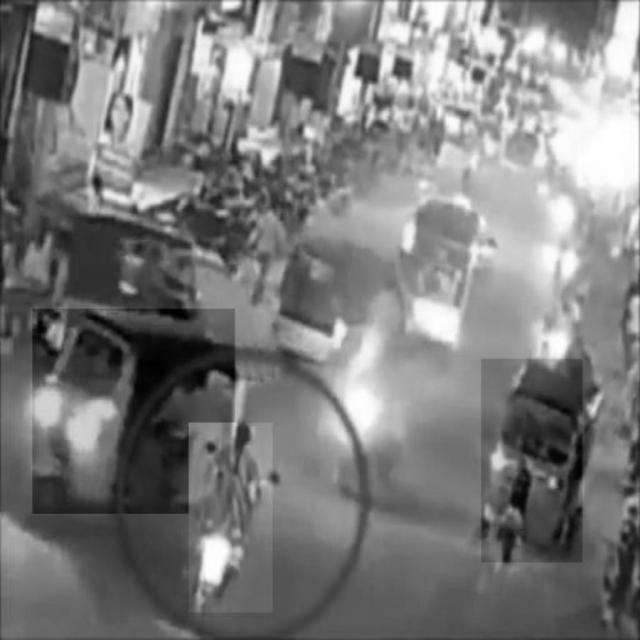vehicle: (33, 309, 235, 514), (482, 359, 583, 563), (189, 422, 272, 612)
